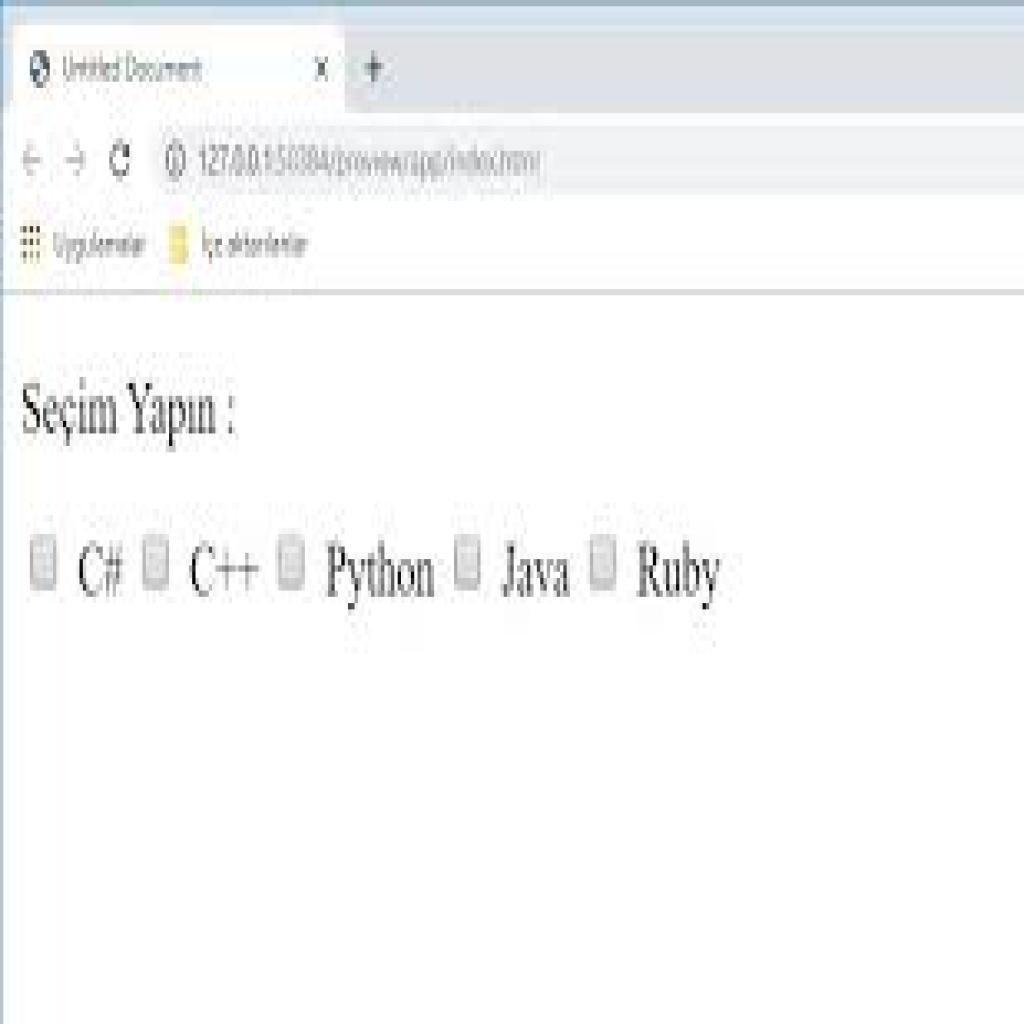checkbox: (274, 535, 306, 586), (452, 538, 482, 592), (142, 536, 172, 589), (589, 539, 618, 588), (28, 536, 55, 587)
input: (635, 538, 722, 608)
label: (322, 539, 434, 610), (493, 536, 572, 604), (186, 539, 260, 596), (72, 536, 126, 597)
